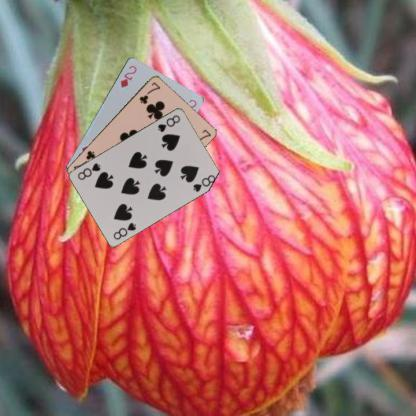2d: (118, 63, 138, 89)
7c: (136, 79, 162, 105)
8s: (154, 112, 182, 133), (111, 220, 137, 240)
